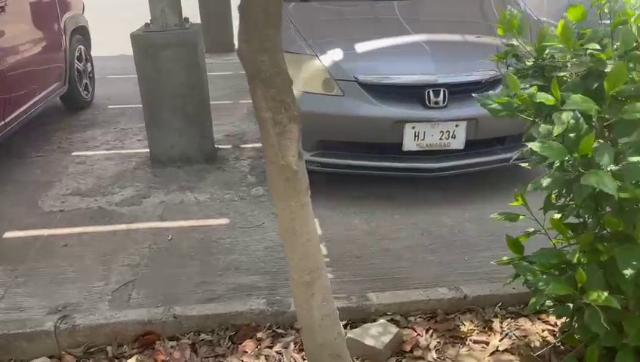plate: (402, 119, 468, 150)
